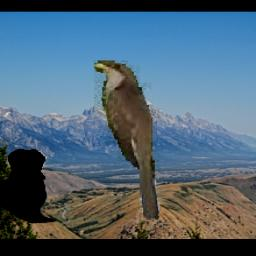Crow: (0, 148, 58, 223)
Cuckoo: (92, 61, 159, 220)
